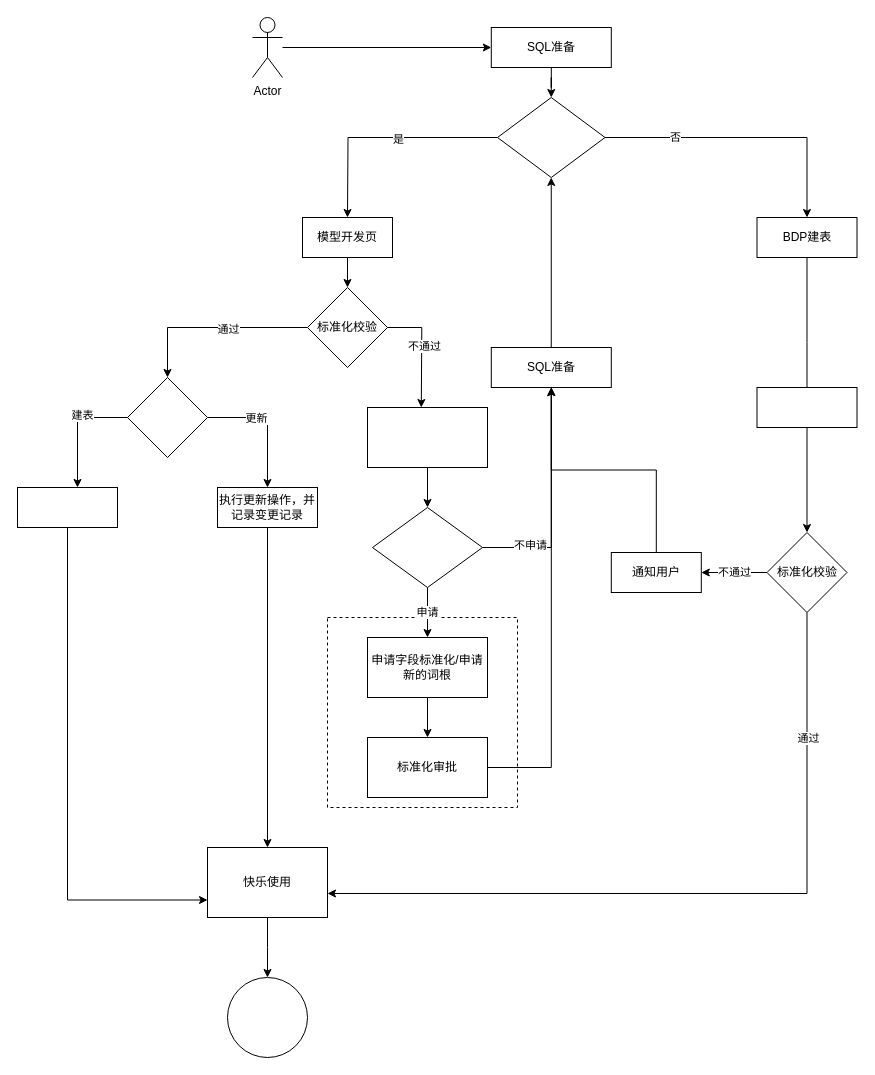
This 875x1075 diagram has some shape labels left out. Each missing label, with the centre of its shape:
"不标准字段明细" goes at [427,437].
"建表OR更新" goes at [167,417].
"执行建表操作、并创建模型" goes at [67,507].
"是否数据地图建表" goes at [550,137].
"是否申请字段标准化" goes at [427,547].
"模型定时接入" goes at [806,407].
